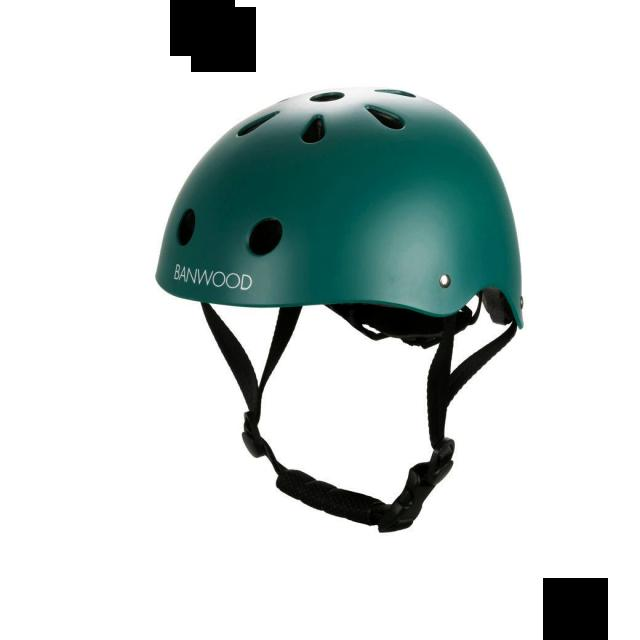Helmet: (158, 80, 526, 329)
